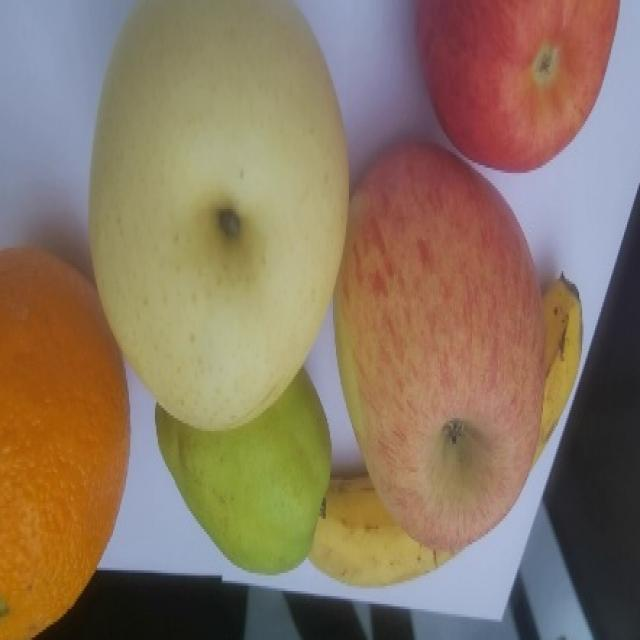Apple: (415, 0, 620, 173)
Orange: (0, 245, 131, 639)
